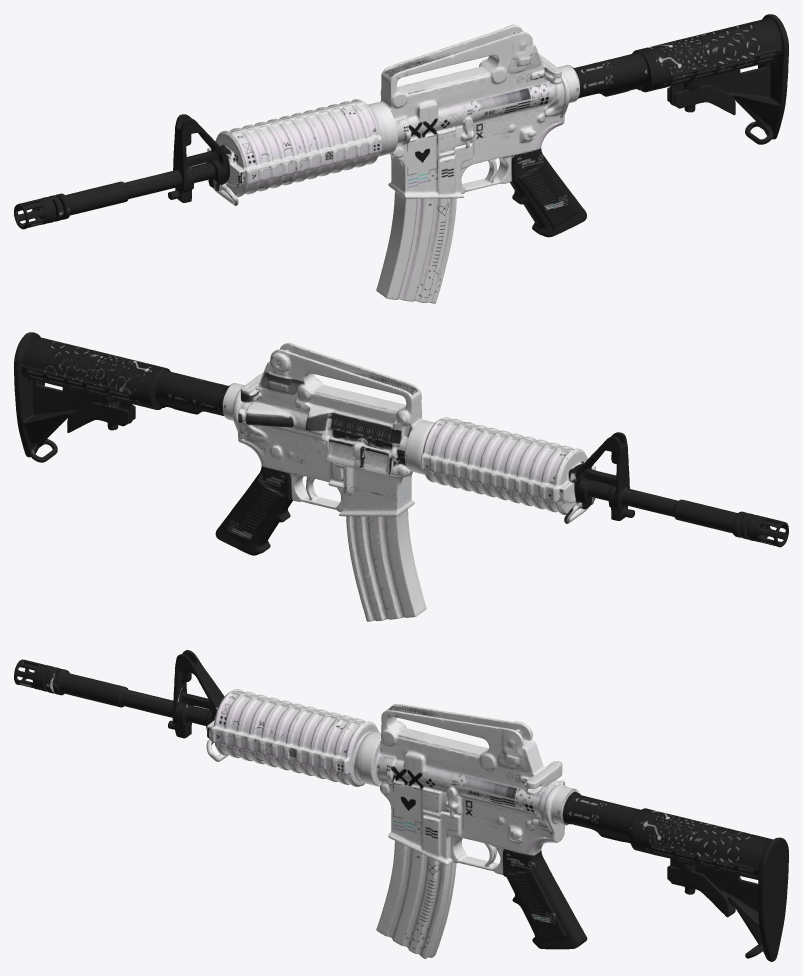
Rendered from Meshy_AI_M4A1_1013141943_texture.glb.
3 renders of one model, top to bottom at view 1: azimuth 30°, elevation 25°; view 2: azimuth 150°, elevation 25°; view 3: azimuth 330°, elevation 25°, orthographic.
Bounding box in the file's own units: 1.9 × 0.6012 × 0.1635.
Materials: 1 (1 with a texture image).
